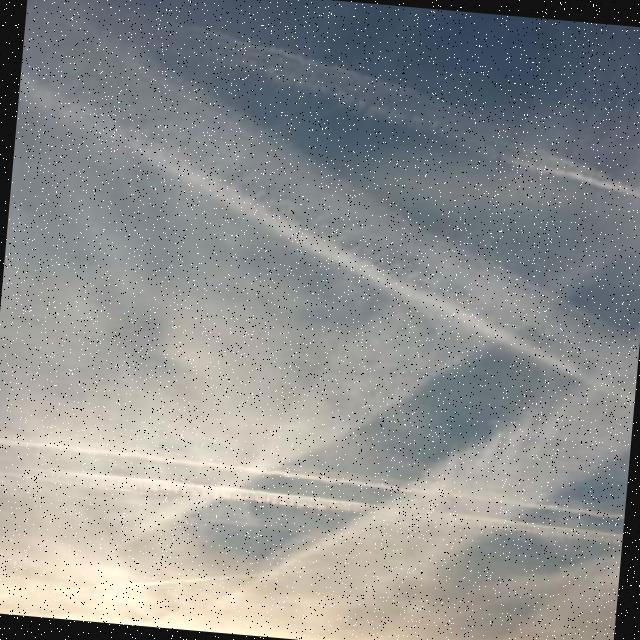Ct: (1, 1, 640, 552)
